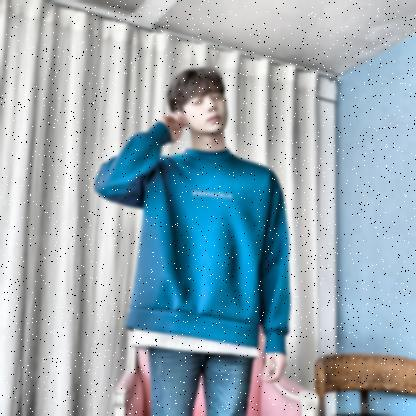short sleeve shirt: (128, 325, 266, 357)
sweater: (93, 118, 291, 356)
trousers: (146, 337, 257, 416)
